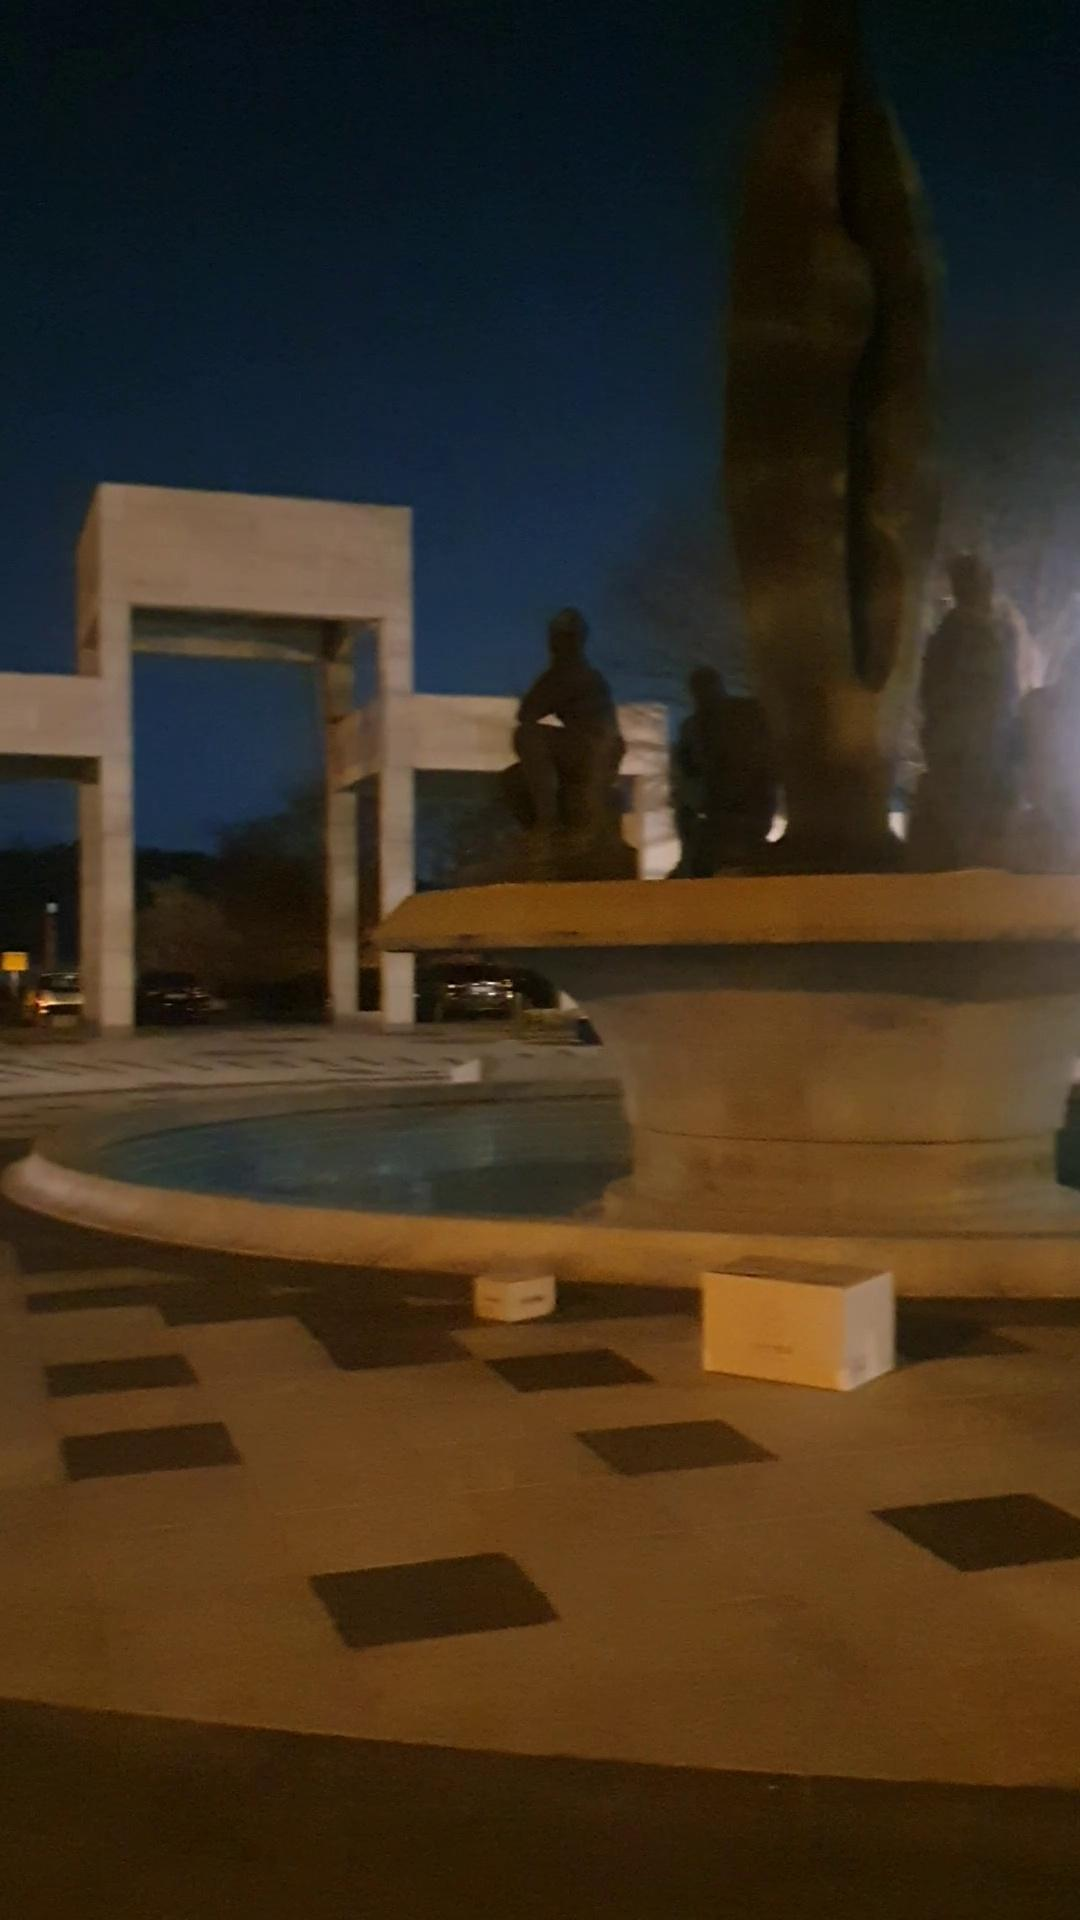Box: (688, 1244, 909, 1398), (465, 1258, 570, 1338)
